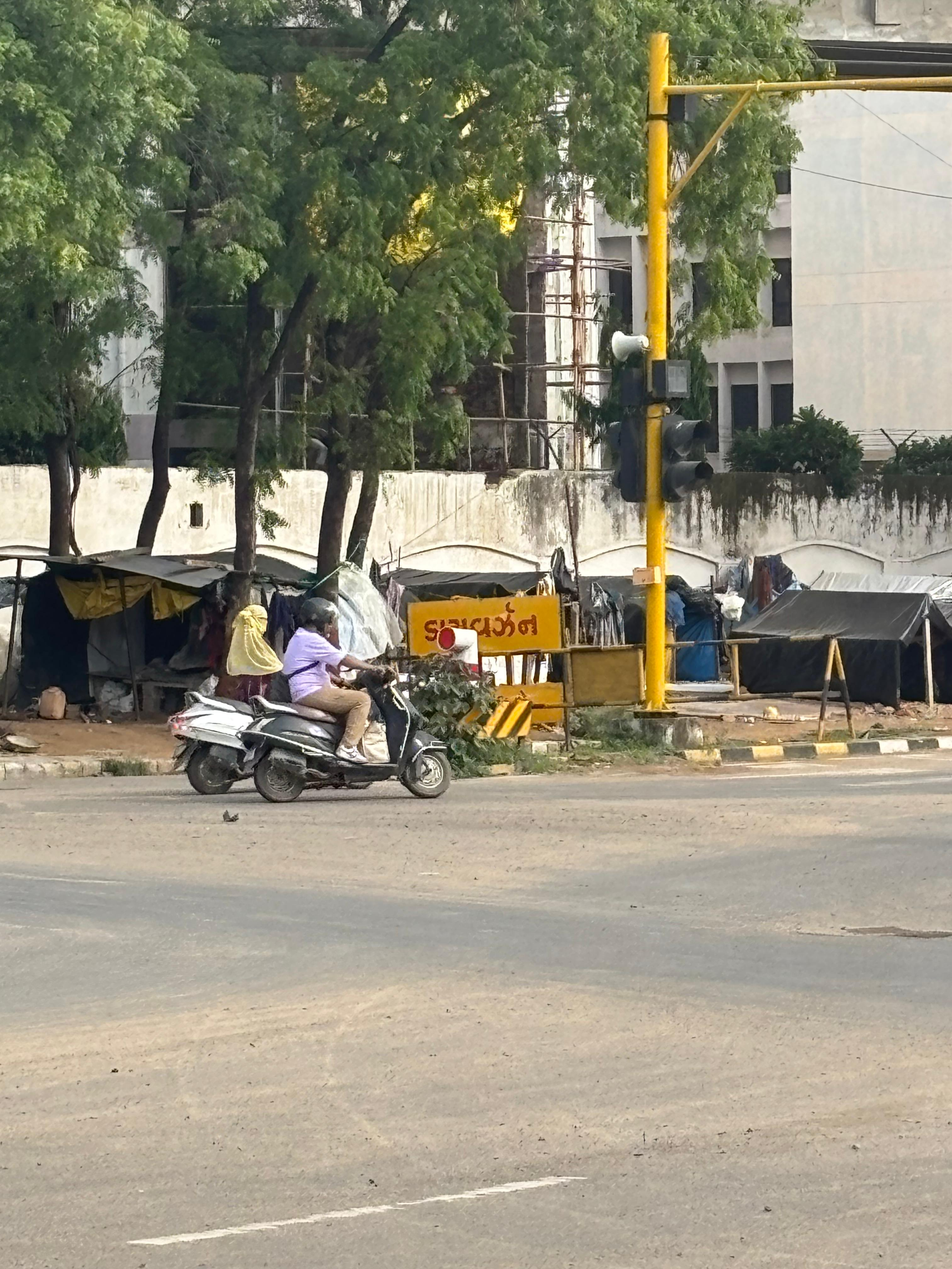BikeWithRider: (234, 590, 462, 804), (162, 599, 300, 803)
Helmet: (292, 590, 346, 642)
NoHelmet: (233, 603, 275, 635)
